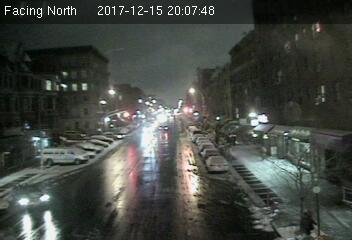car: (10, 182, 53, 208), (206, 156, 229, 172), (157, 124, 168, 132)
